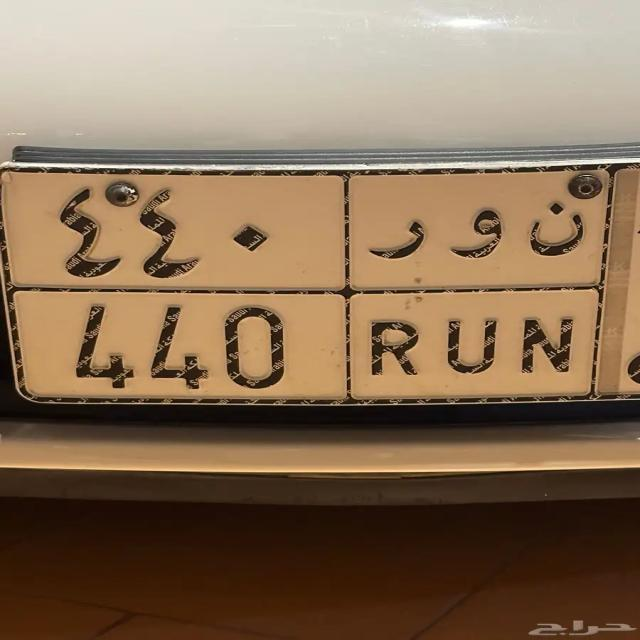license_plate: (8, 288, 605, 406)
